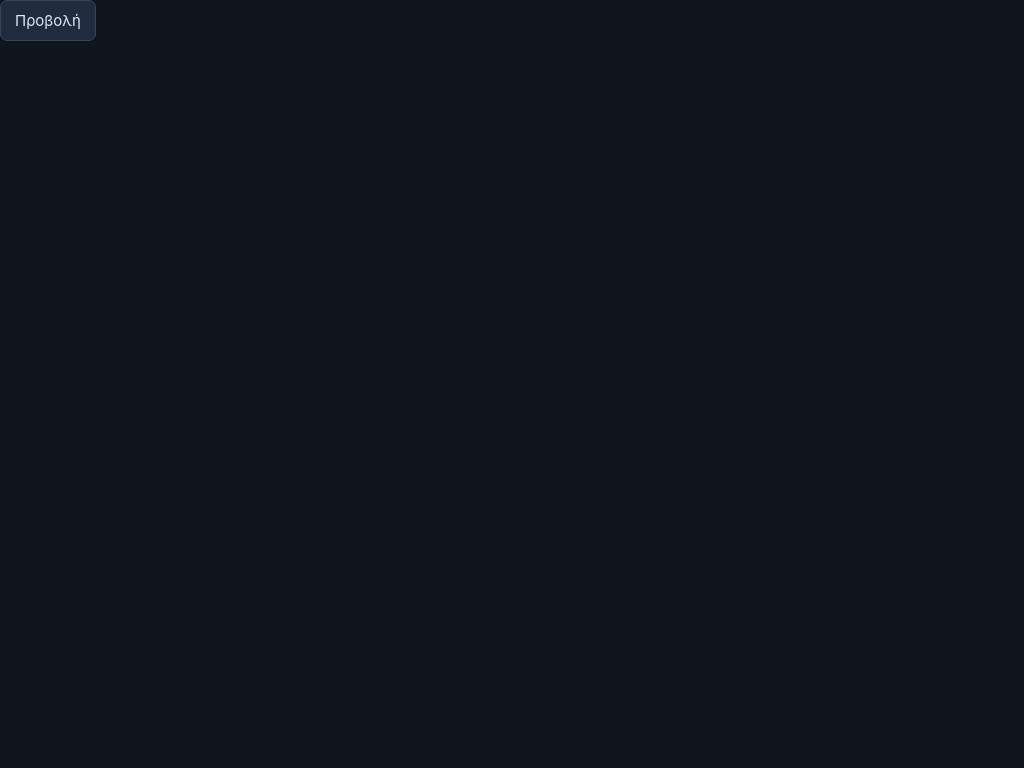
Test case: PDF preview controls and lifecycle › reports rendering errors, aborts the page task and frees the canvas on unmount
Click the button "Προβολή". click: (48, 20)
box: [0,0,96,41]
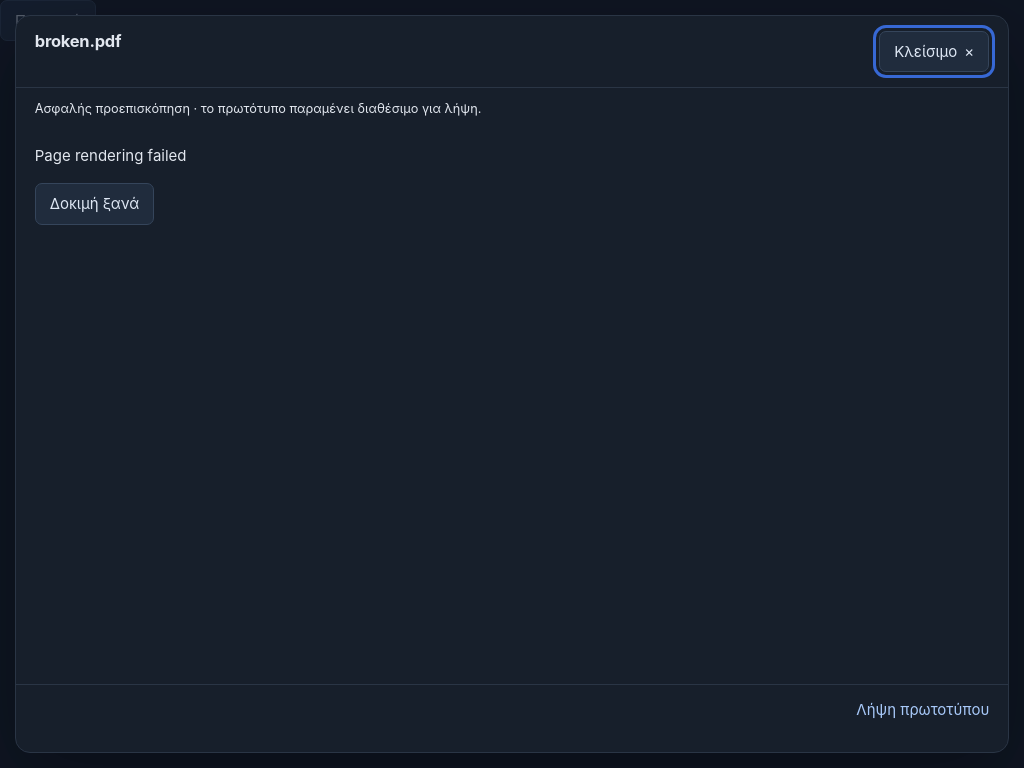
Expected: the message reads "Page rendering failed", [35,146,187,165]
